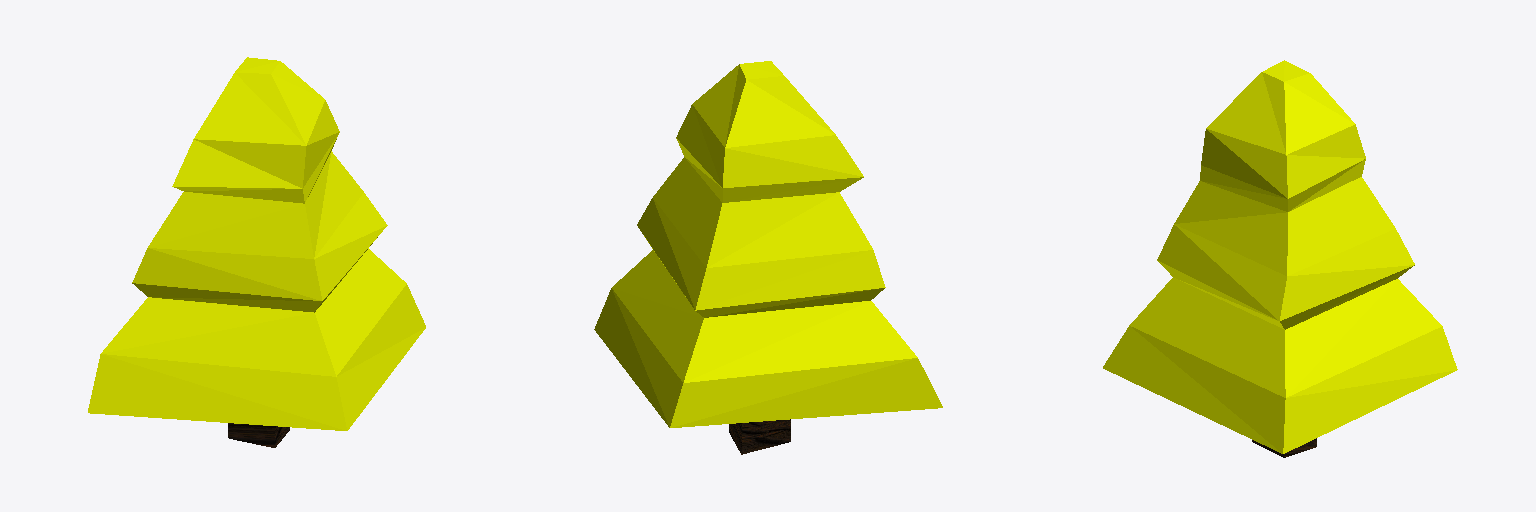
The picture shows the model from 3 angles: view 1: azimuth 30°, elevation 25°; view 2: azimuth 150°, elevation 25°; view 3: azimuth 270°, elevation 25°; orthographic projection.
Parts seen in each view (by area): view 1: Cylinder_Cylinder.001; view 2: Cylinder_Cylinder.001; view 3: Cylinder_Cylinder.001.
Part boxes in pixels (left/top/right/bottom): Cylinder_Cylinder.001: left=88, top=57, right=425, bottom=447; Cylinder_Cylinder.001: left=594, top=61, right=942, bottom=454; Cylinder_Cylinder.001: left=1103, top=60, right=1457, bottom=457.
Bounding box in the file's own units: 8.81 × 9.15 × 7.88.
2 materials, 2 textured.